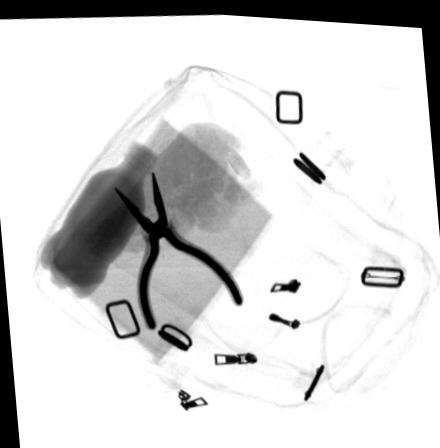Pliers: (111, 167, 242, 328)
